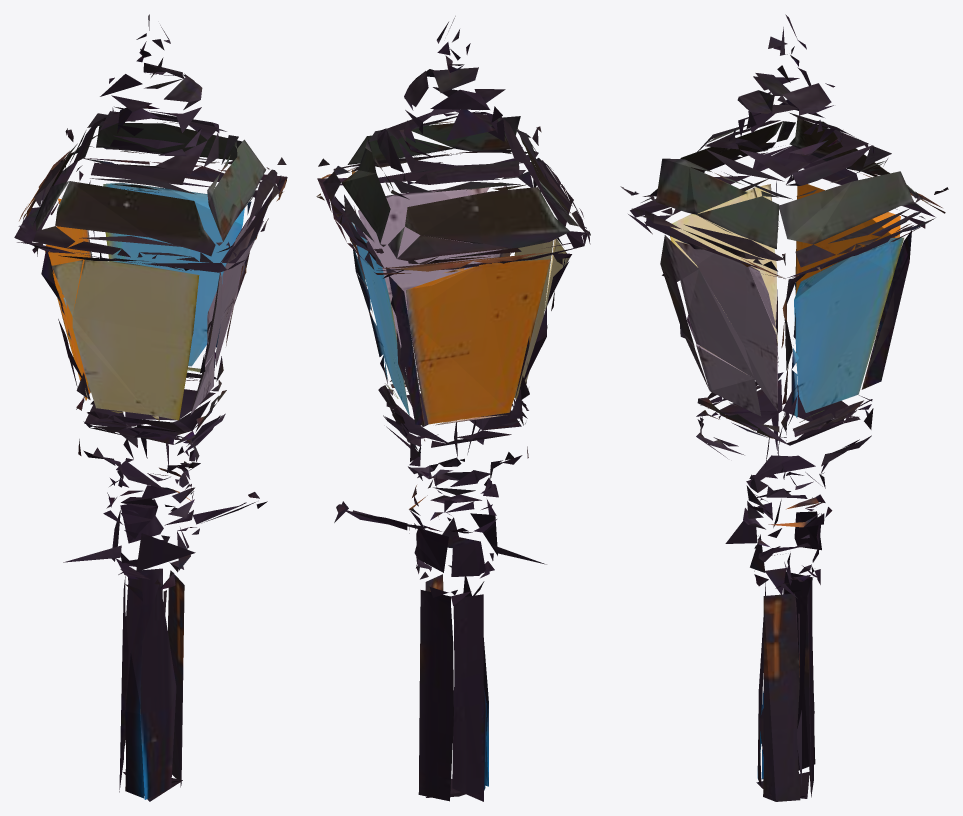
Rendered from streetlamp.glb.
The picture shows the model from 3 angles, left to right: view 1: azimuth 30°, elevation 25°; view 2: azimuth 150°, elevation 25°; view 3: azimuth 270°, elevation 25°; orthographic projection.
Parts seen in each view (by area): view 1: world; view 2: world; view 3: world.
Part boxes in pixels (x1,y1,x2,y2): world: (14, 14, 287, 801); world: (316, 16, 590, 801); world: (620, 14, 948, 801).
Size of the model in its own units: 0.7224 by 1.97 by 0.7577.
1 material, 1 textured.
